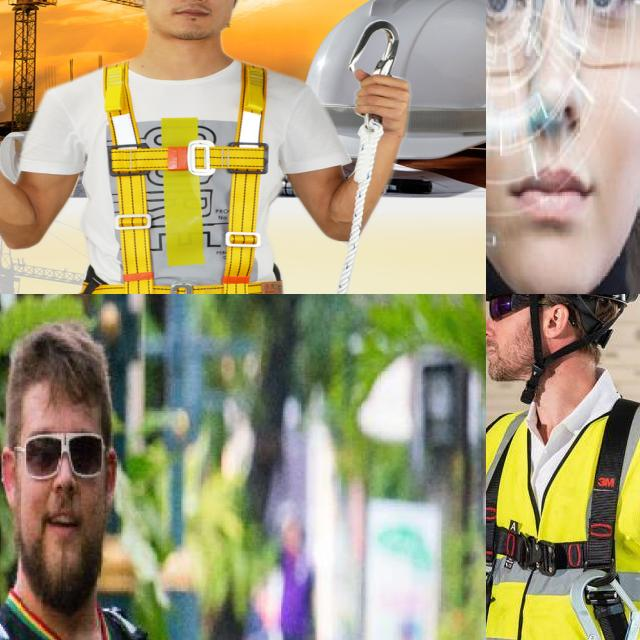Harness: (77, 57, 299, 294), (486, 399, 640, 640)
No_Ear-Protection: (0, 446, 22, 508)
face_nomask: (486, 0, 622, 248), (18, 434, 97, 543)
glasses: (486, 0, 640, 78), (0, 426, 109, 480)
head_nohelmet: (2, 332, 112, 420)
person: (0, 332, 196, 640)
